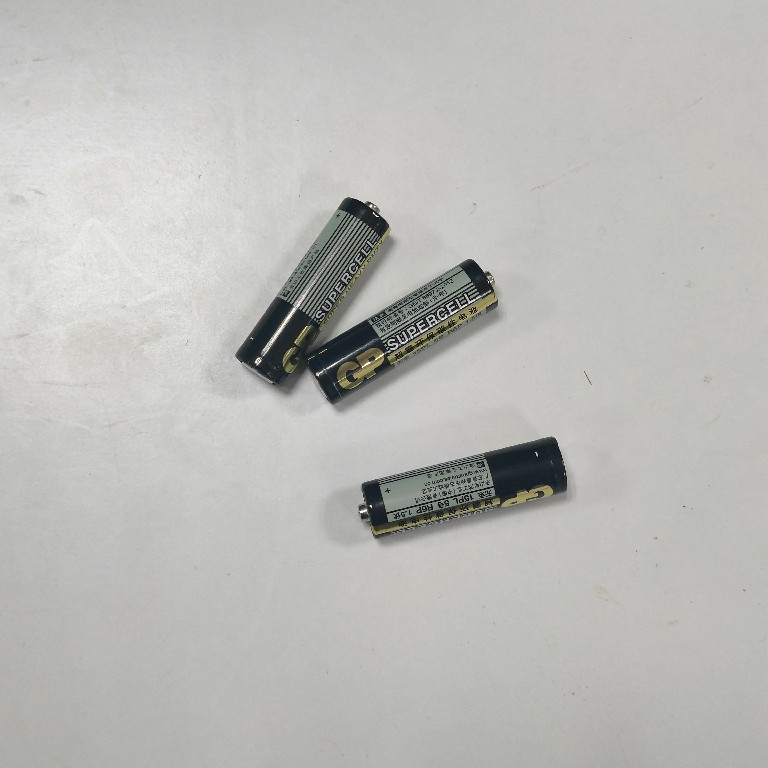charge: (233, 195, 394, 390), (303, 257, 502, 406), (354, 431, 572, 542)
